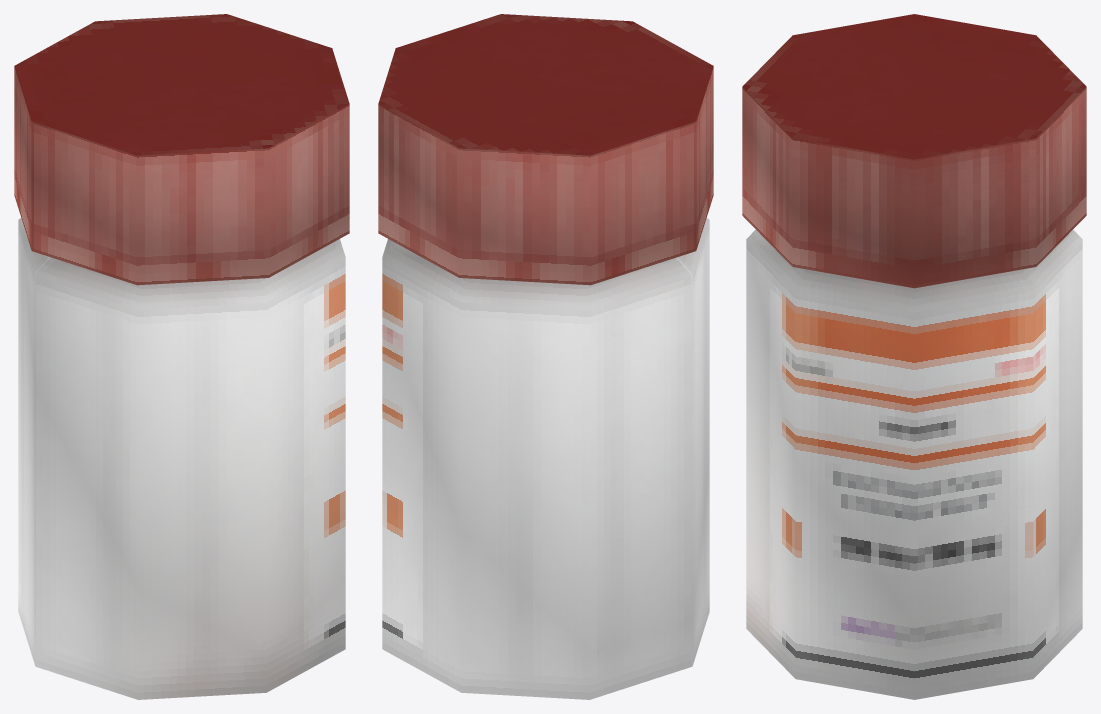
Rendered from pills.glb.
3 renders of one model, left to right at view 1: azimuth 30°, elevation 25°; view 2: azimuth 150°, elevation 25°; view 3: azimuth 270°, elevation 25°, orthographic.
Visible parts, largest first — view 1: Object_50; view 2: Object_50; view 3: Object_50.
Boxes of the visible parts, x1,y1,x2,y2 form: Object_50: (14, 14, 349, 699); Object_50: (378, 14, 713, 699); Object_50: (742, 14, 1086, 699).
Bounding box in the file's own units: 0.3886 × 0.6746 × 0.3886.
1 material, 1 textured.
